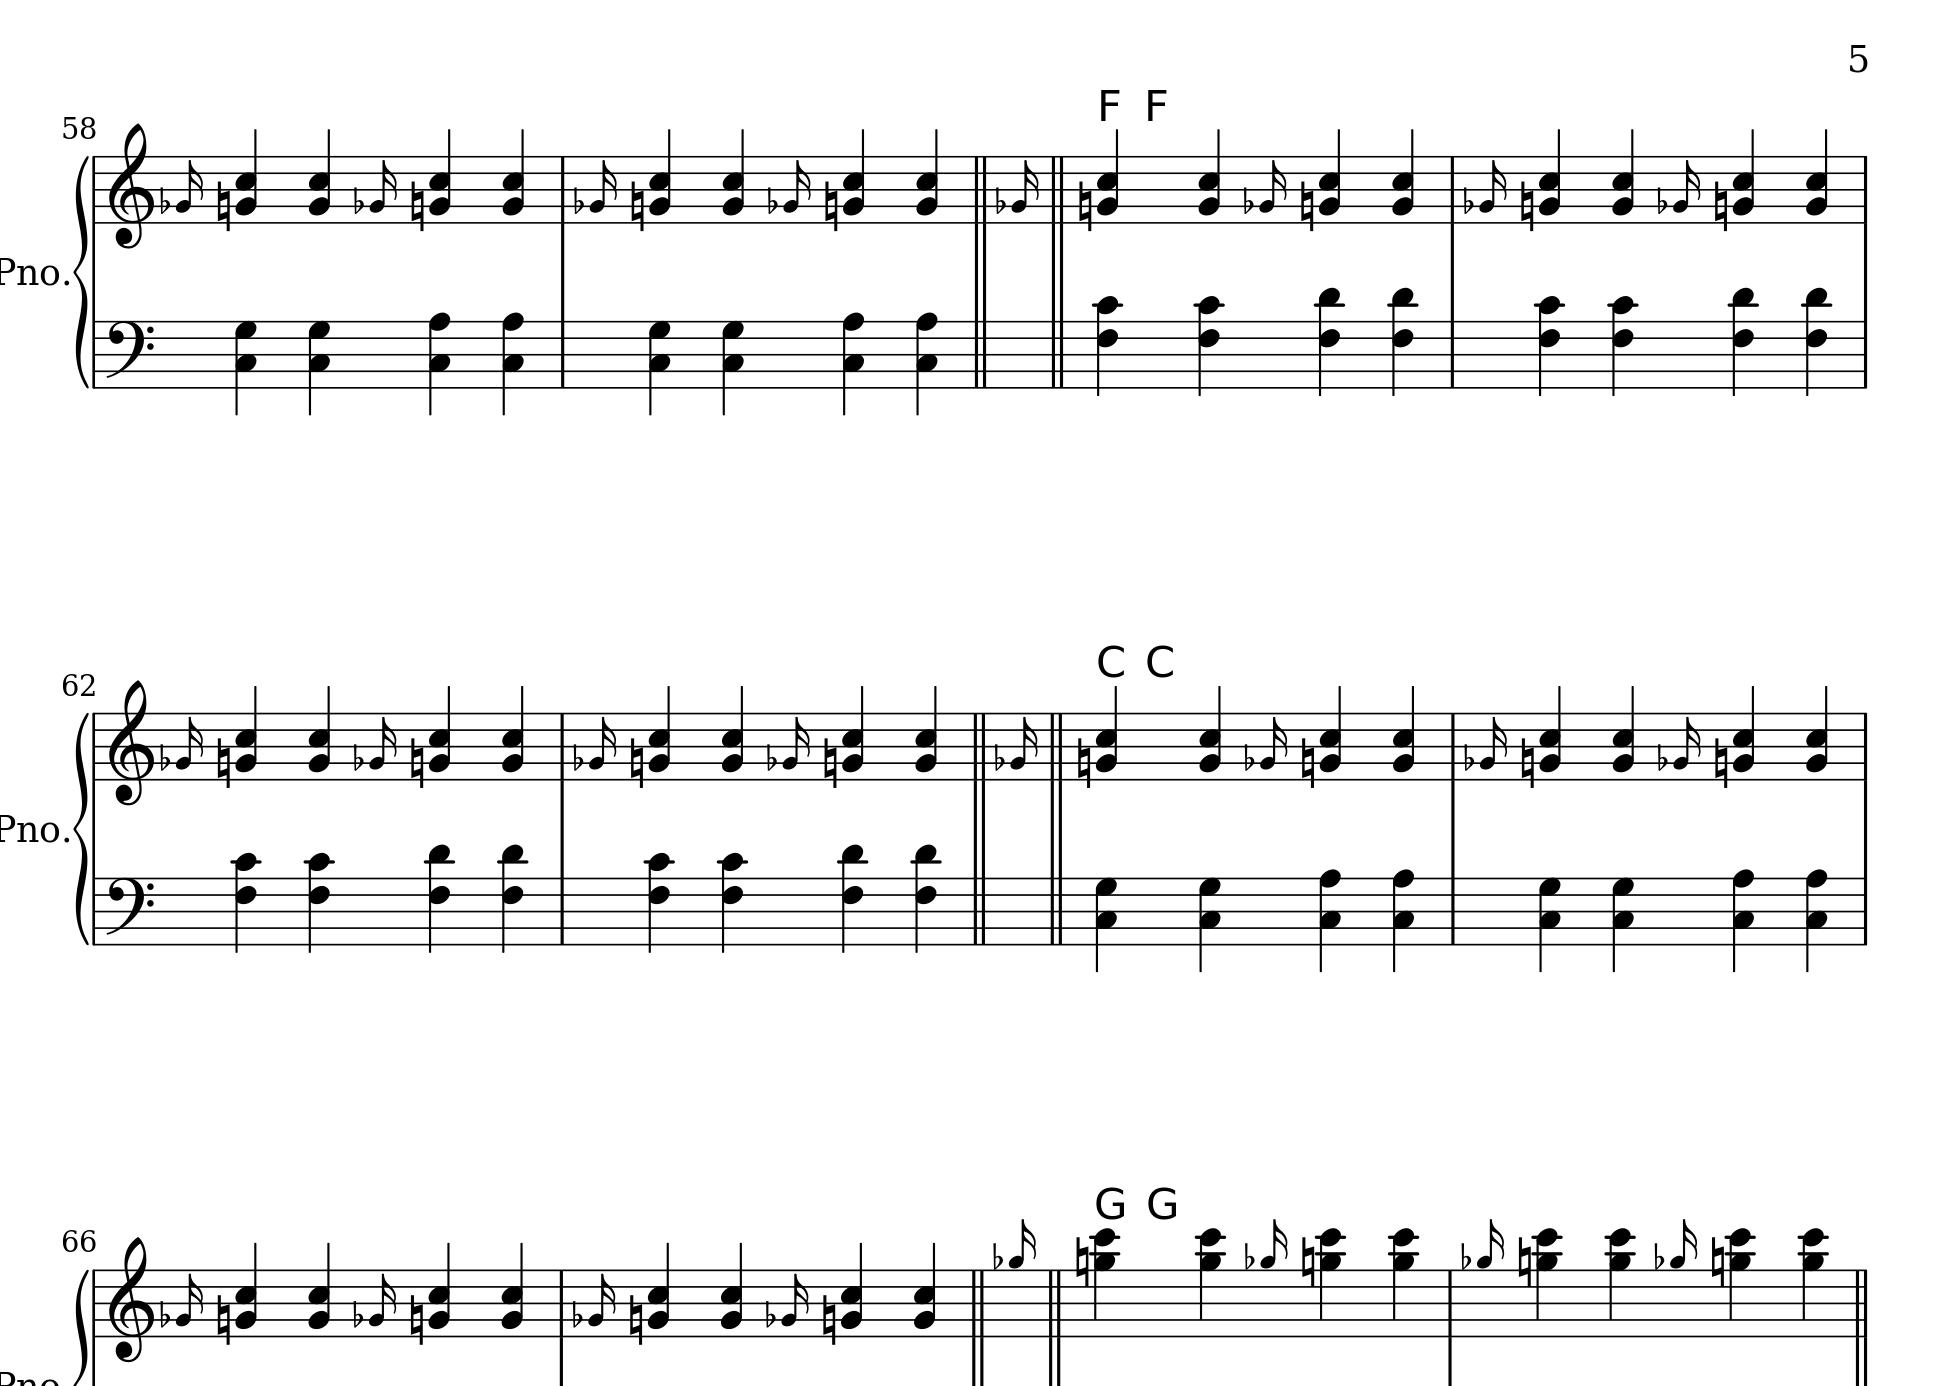2: (78, 670, 97, 697)
4_2_5: (232, 129, 259, 225), (304, 129, 331, 225), (427, 127, 454, 223), (501, 129, 528, 225), (646, 130, 673, 226), (721, 127, 748, 223), (838, 127, 865, 223), (913, 129, 940, 225), (1095, 130, 1122, 226), (1197, 127, 1224, 223), (1317, 127, 1344, 223), (1392, 129, 1419, 225), (1536, 129, 1563, 225), (1611, 127, 1638, 223), (1731, 127, 1758, 223), (1803, 130, 1830, 226), (1803, 685, 1830, 781), (1731, 685, 1758, 781), (1611, 685, 1638, 781), (1537, 687, 1564, 783), (1390, 684, 1417, 780), (1318, 685, 1345, 781), (1197, 687, 1224, 783), (1093, 685, 1120, 781), (910, 684, 937, 780), (838, 685, 865, 781), (720, 685, 747, 781), (646, 685, 673, 781), (499, 684, 526, 780), (426, 685, 453, 781), (307, 685, 334, 781), (232, 685, 259, 781), (232, 1243, 259, 1339), (306, 1243, 333, 1339), (427, 1240, 454, 1336), (498, 1242, 525, 1338), (646, 1243, 673, 1339), (718, 1242, 745, 1338), (837, 1243, 864, 1339), (912, 1242, 939, 1338)
4_3_7: (1611, 873, 1638, 972), (1537, 873, 1564, 972), (1197, 874, 1224, 973), (1093, 874, 1120, 973), (304, 318, 331, 415), (646, 316, 672, 414), (232, 319, 258, 415), (720, 316, 745, 412)
4_3_8: (426, 310, 453, 417), (840, 307, 867, 414), (913, 307, 940, 414), (499, 310, 526, 415), (1804, 864, 1830, 972), (1390, 865, 1416, 973), (1318, 865, 1344, 973), (1731, 862, 1755, 970)
4_6_10: (1090, 294, 1123, 397), (1194, 292, 1227, 396), (1533, 294, 1566, 397), (1608, 292, 1641, 396), (717, 850, 748, 952), (645, 850, 676, 952), (229, 850, 261, 952), (304, 850, 334, 952)
4_6_11: (1314, 286, 1347, 397), (1386, 285, 1419, 396), (1726, 283, 1759, 394), (1800, 283, 1833, 394), (496, 841, 528, 957), (424, 841, 454, 955), (912, 843, 940, 954), (838, 841, 867, 952)
4_9_12: (1197, 1225, 1227, 1339), (1315, 1225, 1345, 1339), (1389, 1225, 1419, 1339), (1533, 1225, 1563, 1339), (1606, 1225, 1636, 1339), (1090, 1227, 1120, 1339), (1728, 1225, 1758, 1338), (1800, 1224, 1830, 1336)
4_th: (1090, 292, 1126, 397)
5: (1846, 37, 1872, 75), (61, 112, 78, 141)
6: (61, 670, 79, 697), (61, 1225, 79, 1252), (79, 1225, 97, 1252)
8: (79, 112, 97, 141)
Brace: (72, 708, 91, 949), (72, 151, 90, 388)
Double_barline: (964, 874, 991, 945), (1044, 877, 1071, 943), (967, 319, 993, 388), (1047, 319, 1071, 388), (966, 1267, 990, 1336), (1044, 1269, 1068, 1336), (969, 154, 991, 223), (1047, 154, 1069, 223), (967, 711, 990, 778), (1851, 1267, 1872, 1336), (1047, 712, 1068, 780)
Fclef: (103, 318, 156, 391), (103, 874, 156, 948)
Flat: (763, 741, 778, 772), (349, 1297, 364, 1329), (1461, 183, 1474, 214), (351, 741, 364, 772), (1242, 741, 1255, 772), (1462, 741, 1476, 772), (1242, 1239, 1255, 1270), (157, 184, 171, 214), (351, 184, 364, 214), (571, 184, 585, 214), (765, 184, 778, 214), (993, 184, 1006, 214), (157, 741, 171, 771), (157, 1297, 171, 1327), (570, 1297, 583, 1327), (991, 1240, 1005, 1270), (1459, 1240, 1473, 1270), (993, 741, 1005, 772), (763, 1297, 775, 1329), (1653, 1239, 1665, 1270), (1242, 184, 1254, 214), (1656, 184, 1668, 214), (571, 741, 583, 771), (1656, 742, 1668, 772)
Gclef: (106, 121, 154, 250), (106, 678, 154, 807), (106, 1234, 154, 1363)
Natural: (214, 178, 232, 234), (628, 178, 646, 234), (1299, 178, 1317, 234), (1518, 178, 1536, 234), (1713, 178, 1731, 234), (1075, 735, 1093, 790), (1299, 735, 1317, 790), (1713, 735, 1731, 790), (214, 1291, 232, 1347), (1299, 1234, 1317, 1290), (1077, 178, 1095, 232), (214, 736, 232, 790), (409, 178, 426, 234), (823, 178, 840, 234), (409, 735, 426, 790), (628, 735, 645, 790), (822, 735, 838, 790), (1519, 735, 1536, 790), (820, 1291, 837, 1345), (1074, 1234, 1090, 1288), (1516, 1234, 1533, 1288), (1710, 1234, 1726, 1288), (409, 1291, 424, 1345), (628, 1291, 643, 1345)
Pno: (1, 810, 61, 847), (1, 253, 60, 291)
Single_barline: (1443, 877, 1462, 943), (1443, 154, 1461, 223), (1443, 319, 1461, 388), (553, 154, 571, 222), (553, 319, 571, 387), (1857, 712, 1875, 780), (1855, 877, 1873, 945), (552, 1269, 570, 1336), (1441, 1270, 1459, 1336), (1857, 154, 1873, 223), (1857, 319, 1873, 388), (553, 712, 570, 780), (553, 876, 570, 943), (1444, 712, 1461, 778), (88, 712, 102, 780), (88, 321, 102, 387), (88, 877, 102, 943), (88, 156, 100, 223), (88, 1269, 100, 1336)
